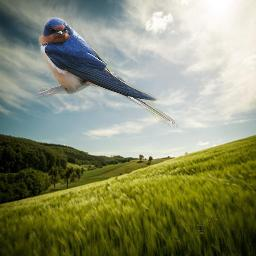Swallow: (38, 17, 178, 128)
